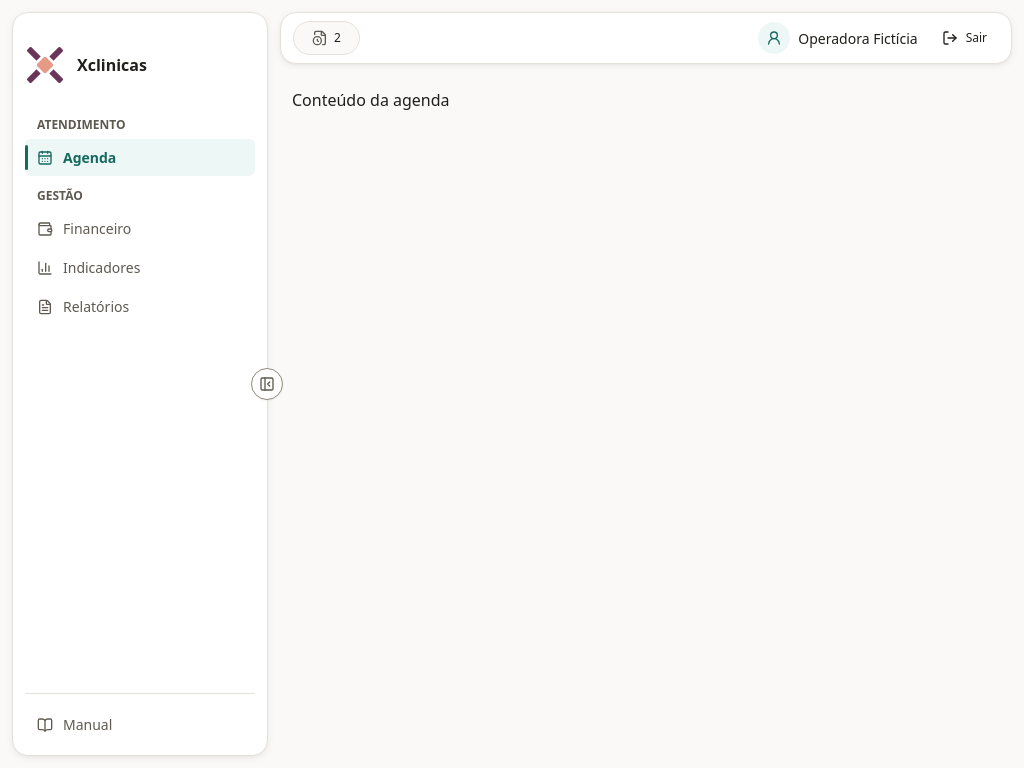
Test case: AppShell — painéis de notificação › deve mostrar atrasados com valor formatado e UMA porta para o financeiro
Click the button named "Lançamentos em atraso": (326, 38) [304,26,349,50]
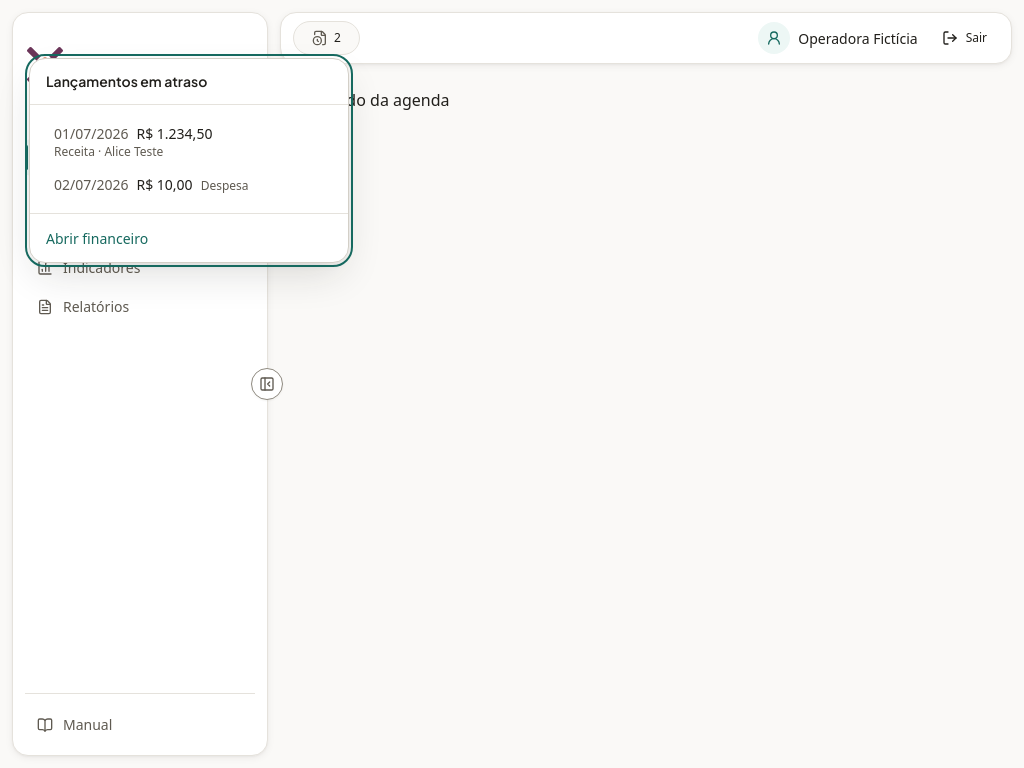
Expected: the dialog "Lançamentos em atraso" shows "R$ 1.234,50", [136,124,212,143]
Expected: the dialog "Lançamentos em atraso" shows "01/07/2026", [54,124,128,143]
Expected: the dialog "Lançamentos em atraso" shows "Despesa", [201,177,248,194]
